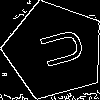U: (29, 25, 86, 73)
